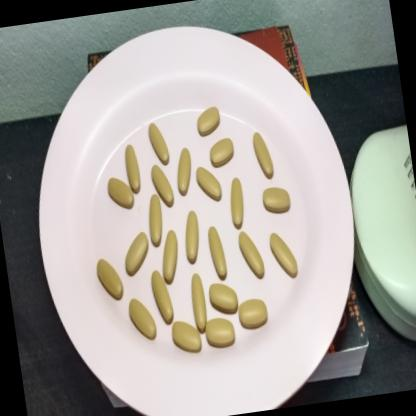VitaminB: (266, 228, 302, 284), (234, 226, 267, 285), (184, 268, 212, 336), (146, 263, 176, 326), (118, 224, 152, 279), (92, 252, 126, 306), (126, 293, 160, 346), (154, 224, 183, 286), (248, 124, 277, 181), (203, 221, 230, 282), (146, 160, 176, 214), (170, 142, 197, 200), (178, 206, 204, 266), (259, 179, 295, 221), (168, 315, 203, 357), (206, 277, 240, 320), (144, 118, 172, 170), (142, 190, 166, 249), (120, 138, 144, 197), (194, 161, 224, 208), (234, 296, 272, 332), (104, 172, 135, 216), (202, 316, 238, 353), (204, 132, 238, 171), (225, 173, 248, 229), (192, 101, 224, 136)
